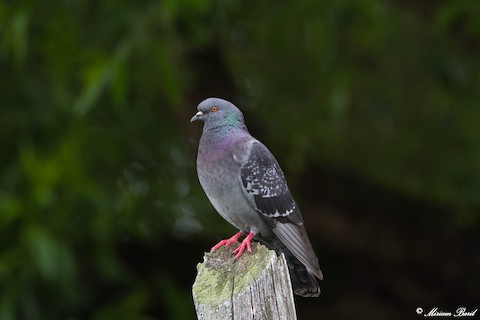pigeon: (188, 94, 328, 305)
